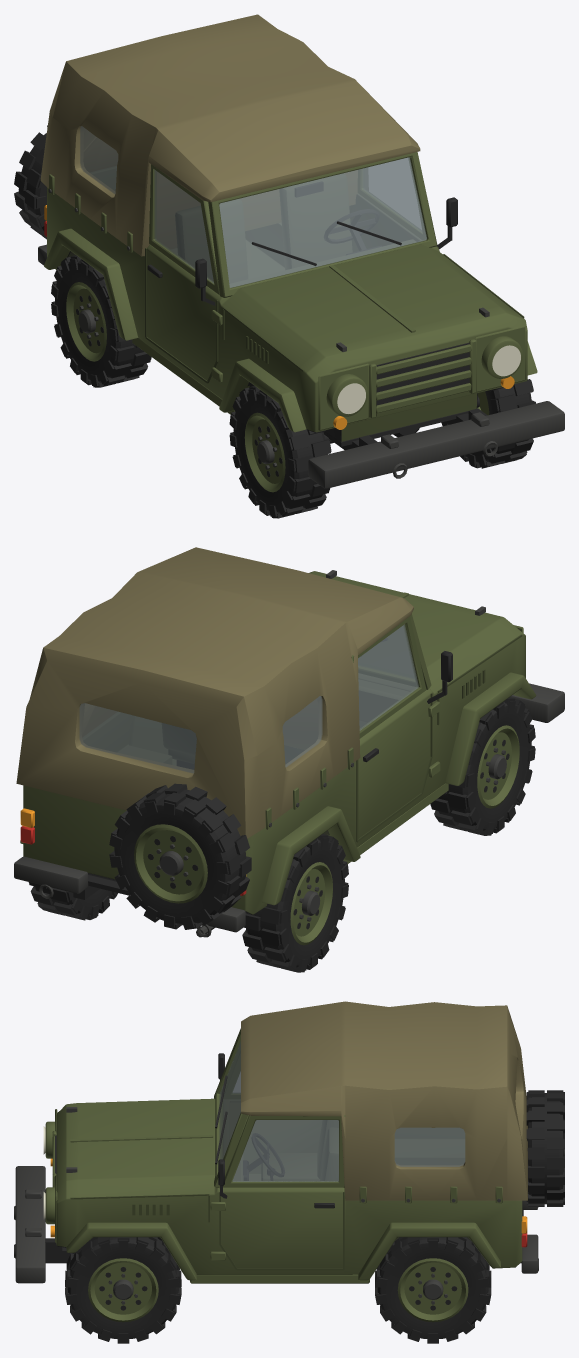
Rendered from Offroad4x4.fbx.
The picture shows the model from 3 angles, top to bottom: view 1: azimuth 30°, elevation 25°; view 2: azimuth 150°, elevation 25°; view 3: azimuth 270°, elevation 25°; orthographic projection. The views are drawn at different scales.
Visible parts, largest first — view 1: Offroad4x4_Mesh; view 2: Offroad4x4_Mesh; view 3: Offroad4x4_Mesh.
Boxes of the visible parts, x1=… form: Offroad4x4_Mesh: x1=14, y1=14, x2=564, y2=518; Offroad4x4_Mesh: x1=14, y1=547, x2=564, y2=972; Offroad4x4_Mesh: x1=14, y1=1001, x2=564, y2=1343.
Bounding box in the file's own units: 1.9 × 2.02 × 4.01.
